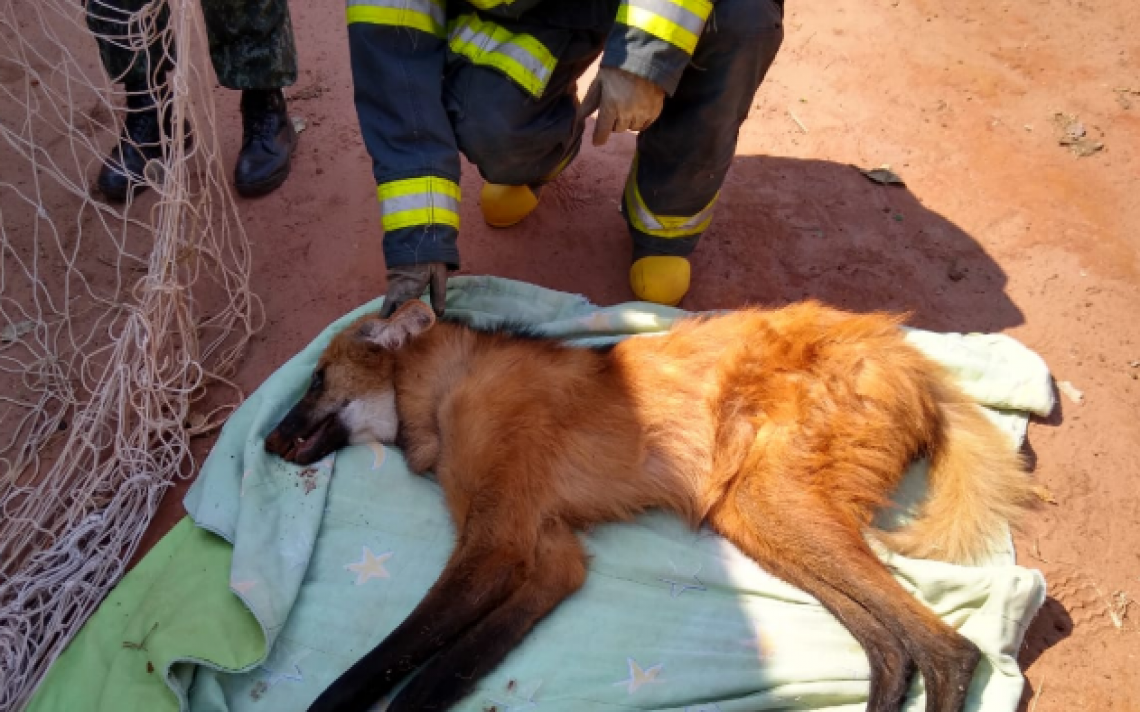LoboGuara: (264, 307, 1046, 691)
